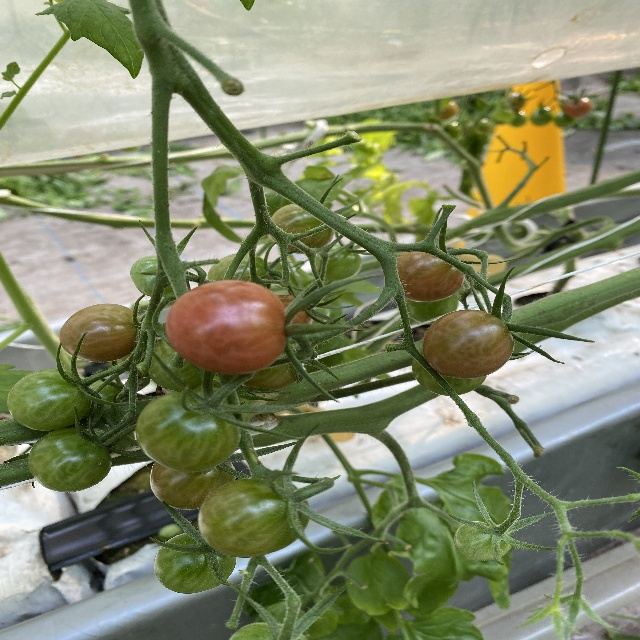l_fully_ripened: (165, 280, 288, 374)
l_green: (198, 477, 312, 558), (136, 388, 244, 472), (26, 425, 112, 492), (154, 527, 238, 594), (6, 369, 90, 432), (151, 459, 236, 510), (411, 341, 487, 396), (147, 337, 214, 390), (266, 204, 334, 255), (453, 520, 513, 560), (205, 253, 271, 288), (312, 243, 362, 281), (129, 256, 175, 297), (405, 291, 460, 324), (229, 623, 309, 640)
l_half_ripened: (423, 310, 517, 378), (60, 303, 141, 363), (234, 333, 306, 392), (393, 250, 465, 302), (277, 296, 316, 341)
